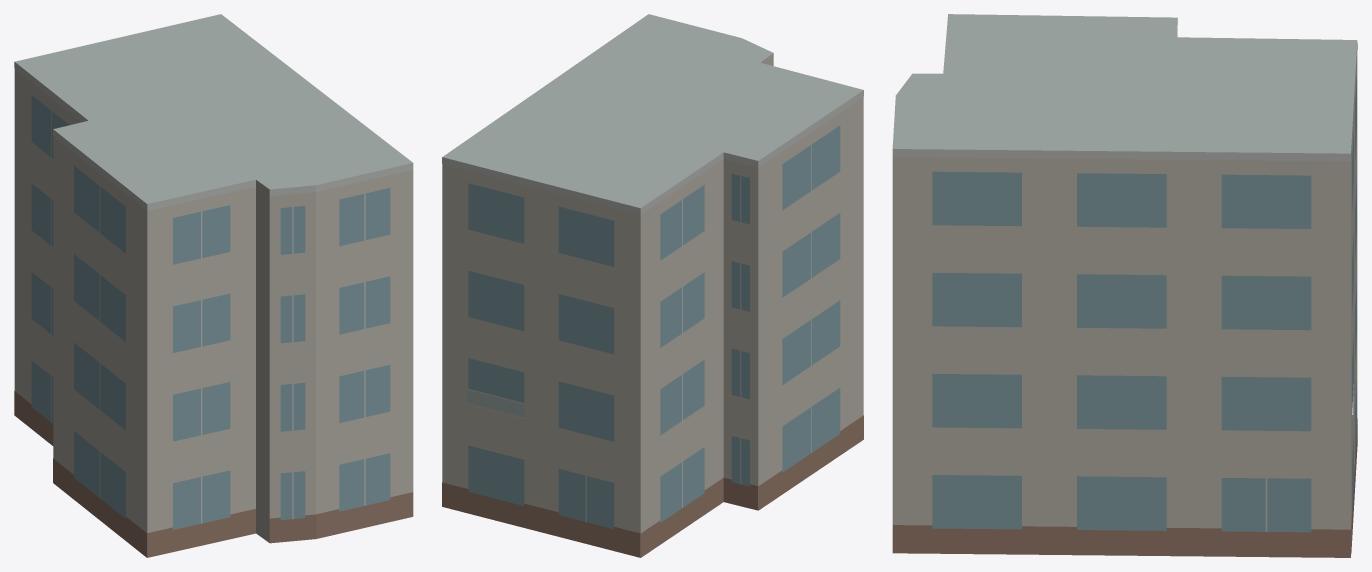
The model's file is survey-upis-32627570.glb.
The picture shows the model from 3 angles, left to right: view 1: azimuth 30°, elevation 25°; view 2: azimuth 150°, elevation 25°; view 3: azimuth 270°, elevation 25°; orthographic projection. The views are drawn at different scales.
Parts seen in each view (by area): view 1: survey-upis-32627570.tmp; view 2: survey-upis-32627570.tmp; view 3: survey-upis-32627570.tmp.
Part boxes in pixels (bbox=[...]): survey-upis-32627570.tmp: bbox=[14, 14, 413, 557]; survey-upis-32627570.tmp: bbox=[442, 14, 863, 557]; survey-upis-32627570.tmp: bbox=[892, 14, 1357, 557].
Size of the model in its own units: 9.41 by 12.7 by 13.25.
